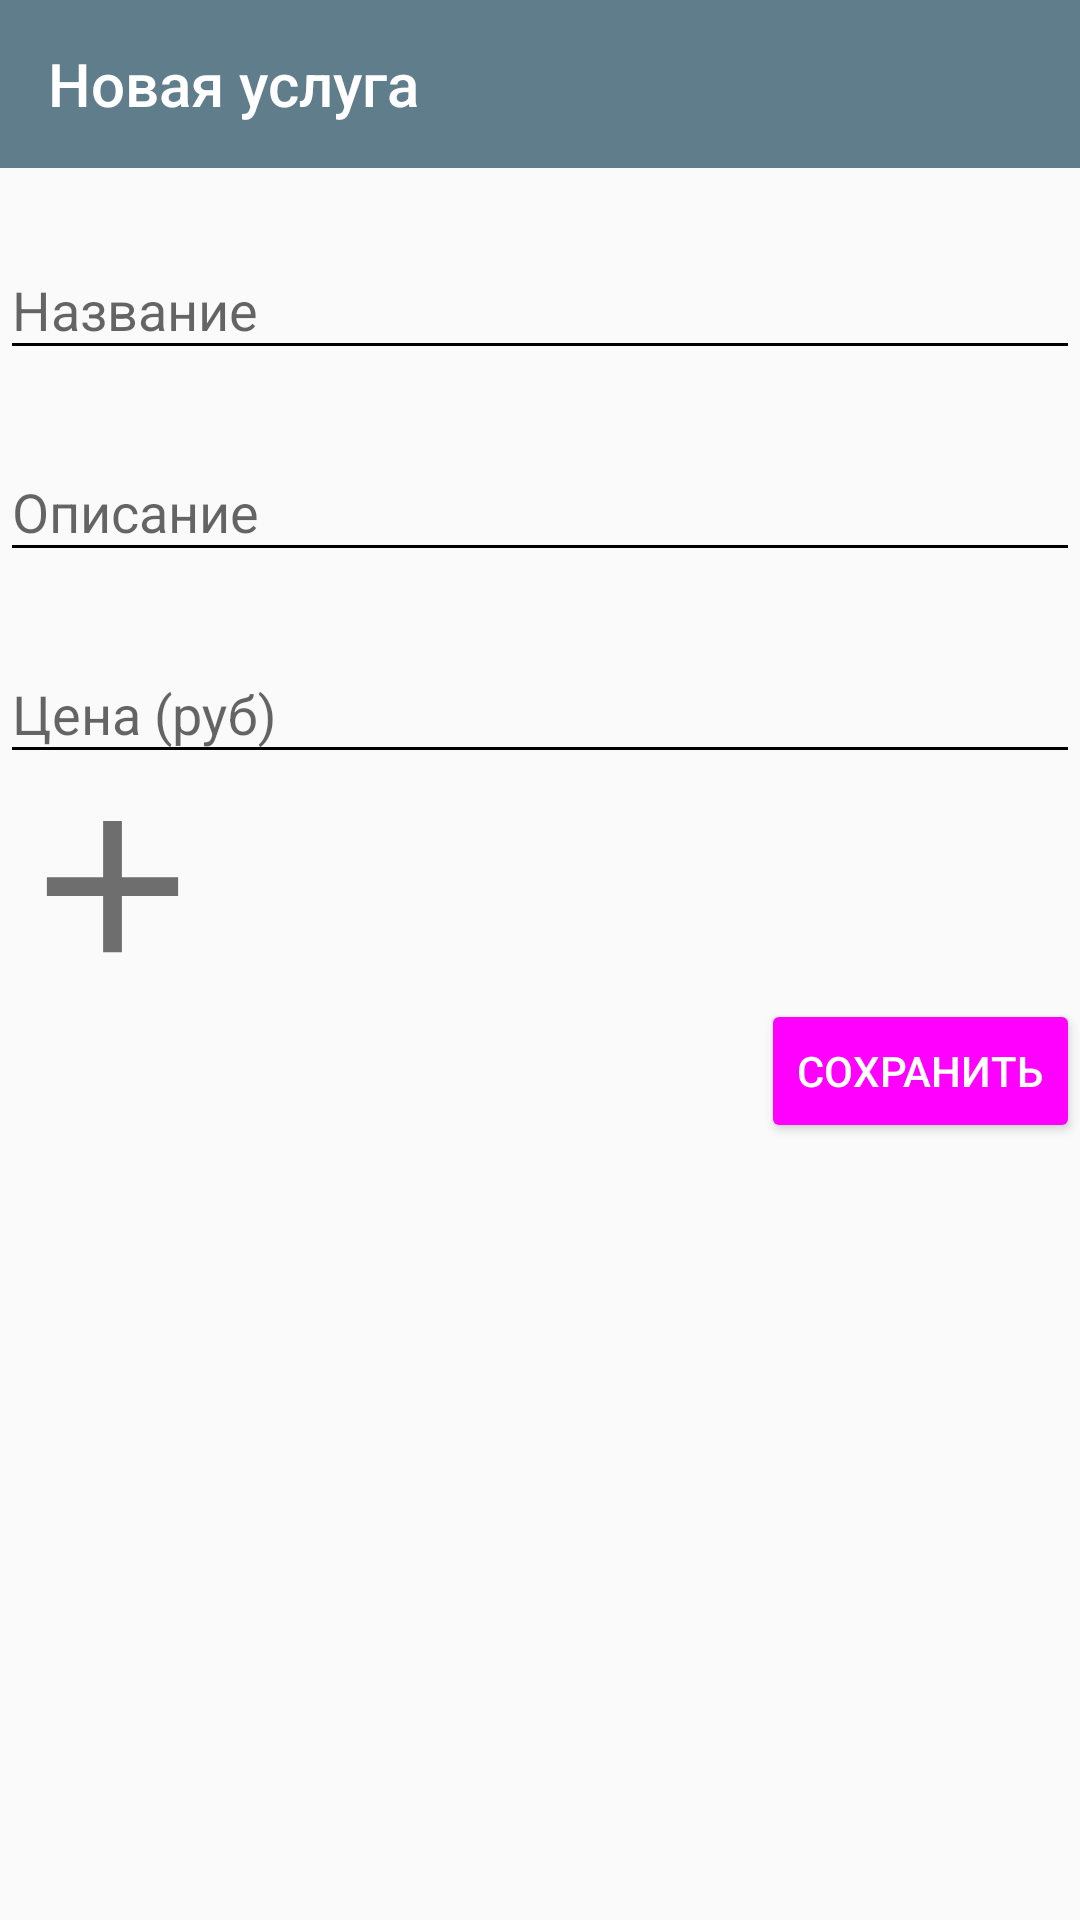

Where to tap for icons on this 1080 x 1920 app screen, as point (x, y):
add: point (112, 887)
